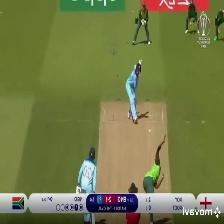ball: (146, 126, 154, 134)
batsman: (109, 55, 155, 126)
